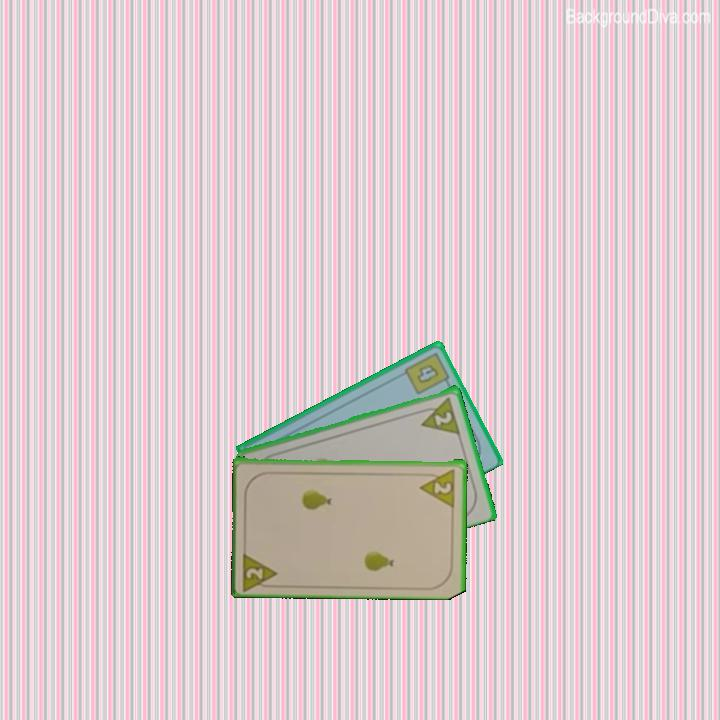2p: (415, 393, 463, 436), (239, 547, 281, 591), (417, 465, 458, 508)
4b: (401, 349, 453, 397)
